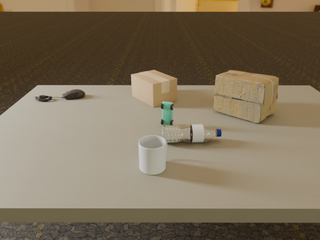bottle: (161, 125, 221, 143)
box: (213, 70, 279, 123), (131, 70, 177, 107)
cup: (139, 135, 167, 175)
mouse: (61, 89, 85, 99)
toy_car: (161, 101, 173, 126)
